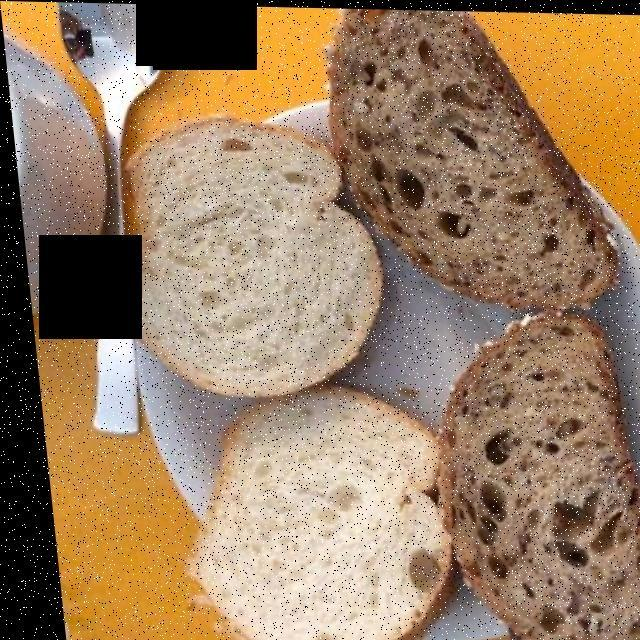bread: (310, 19, 640, 640), (122, 105, 432, 631)
